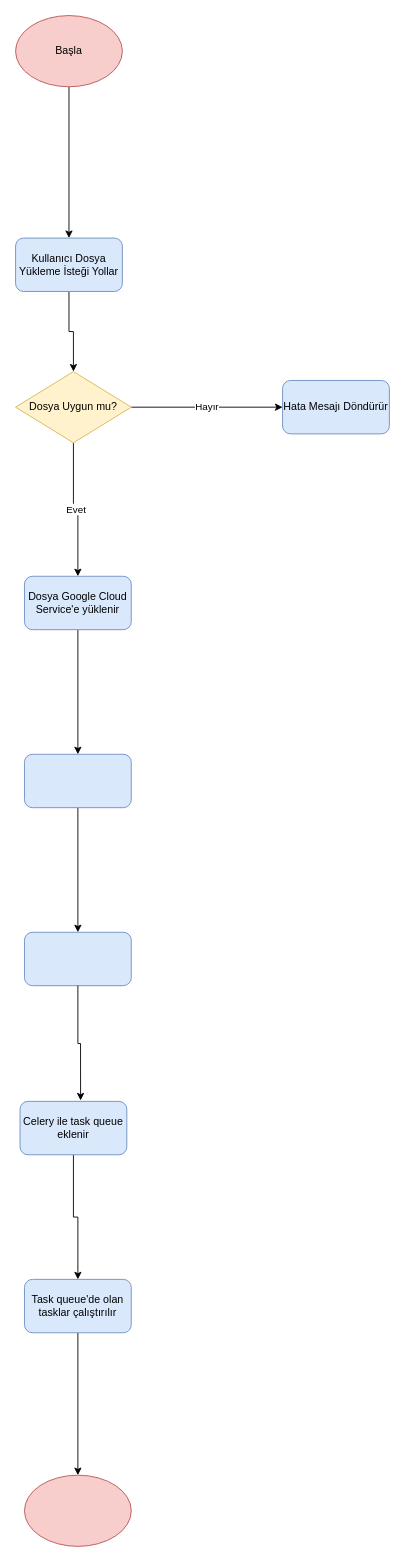
Some shapes in this 405 by 1562 pixel diagram are drawn without their labels. Here are the shapes that lost their labels. From the top down, the centre of each, then its label:
At pixel 77 780: "Metadata Redis'e yazılır".
At pixel 77 958: "PostgreSQL'e log kaydı yapılır".
At pixel 77 1510: "Son".
